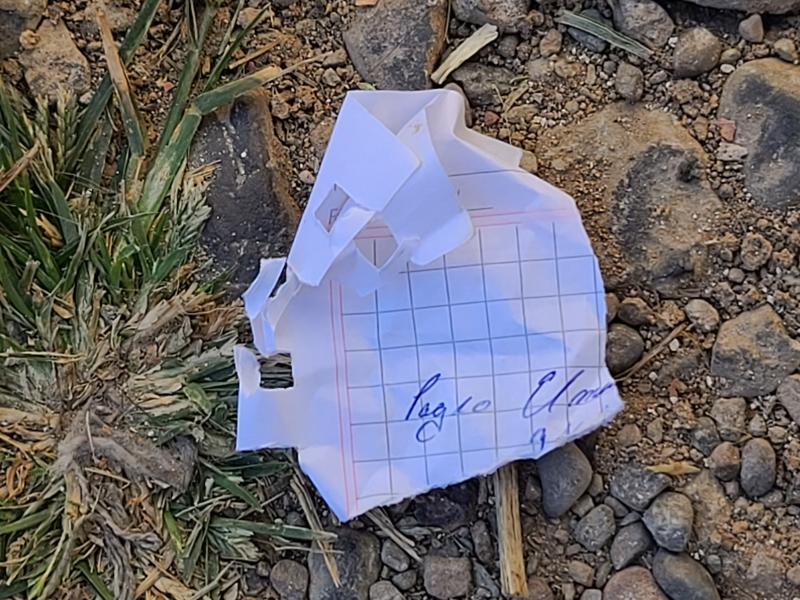papel: (231, 88, 624, 525)
